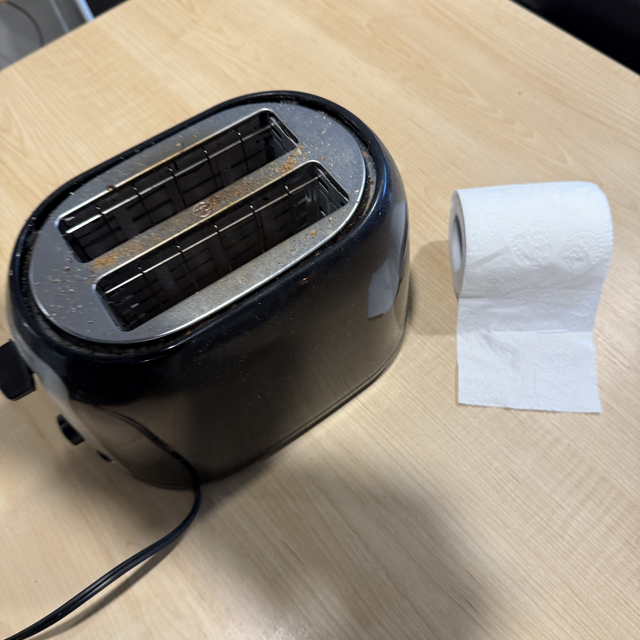Toaster: (0, 86, 415, 483)
Toilet Paper: (454, 182, 605, 409)
